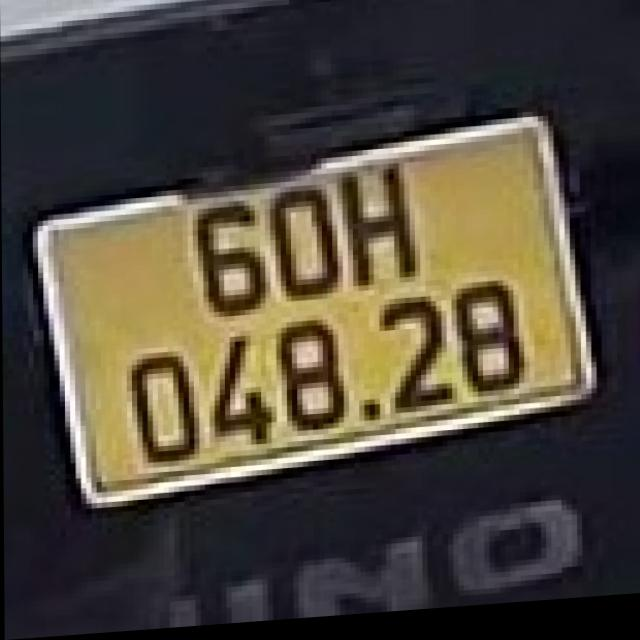0: (129, 353, 200, 470), (270, 189, 340, 306)
2: (381, 299, 454, 421)
4: (210, 339, 269, 454)
6: (196, 203, 266, 323)
8: (276, 323, 346, 440), (454, 289, 523, 402)
H: (337, 166, 417, 297)
